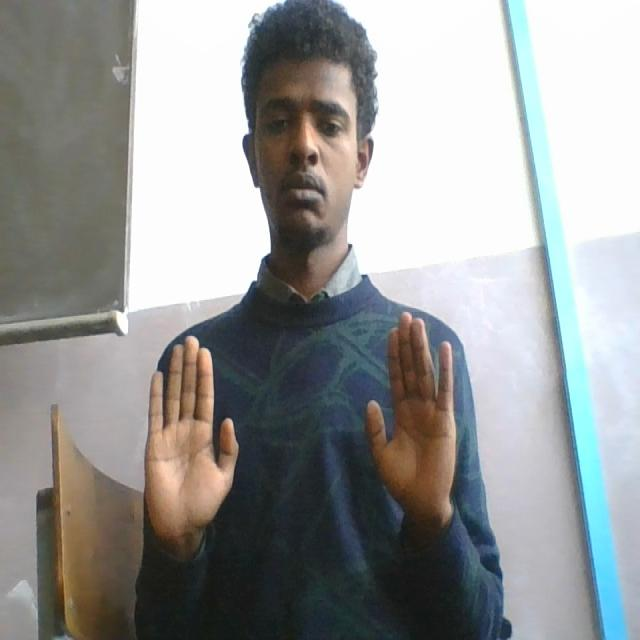megerem: (141, 308, 463, 546)
